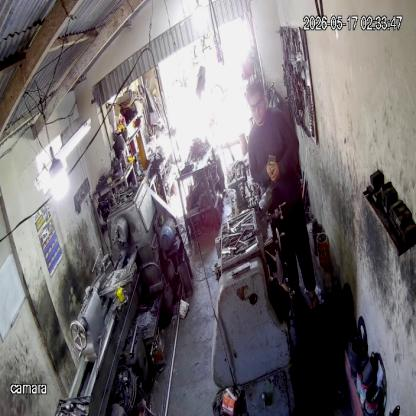lentes: (245, 96, 268, 112)
